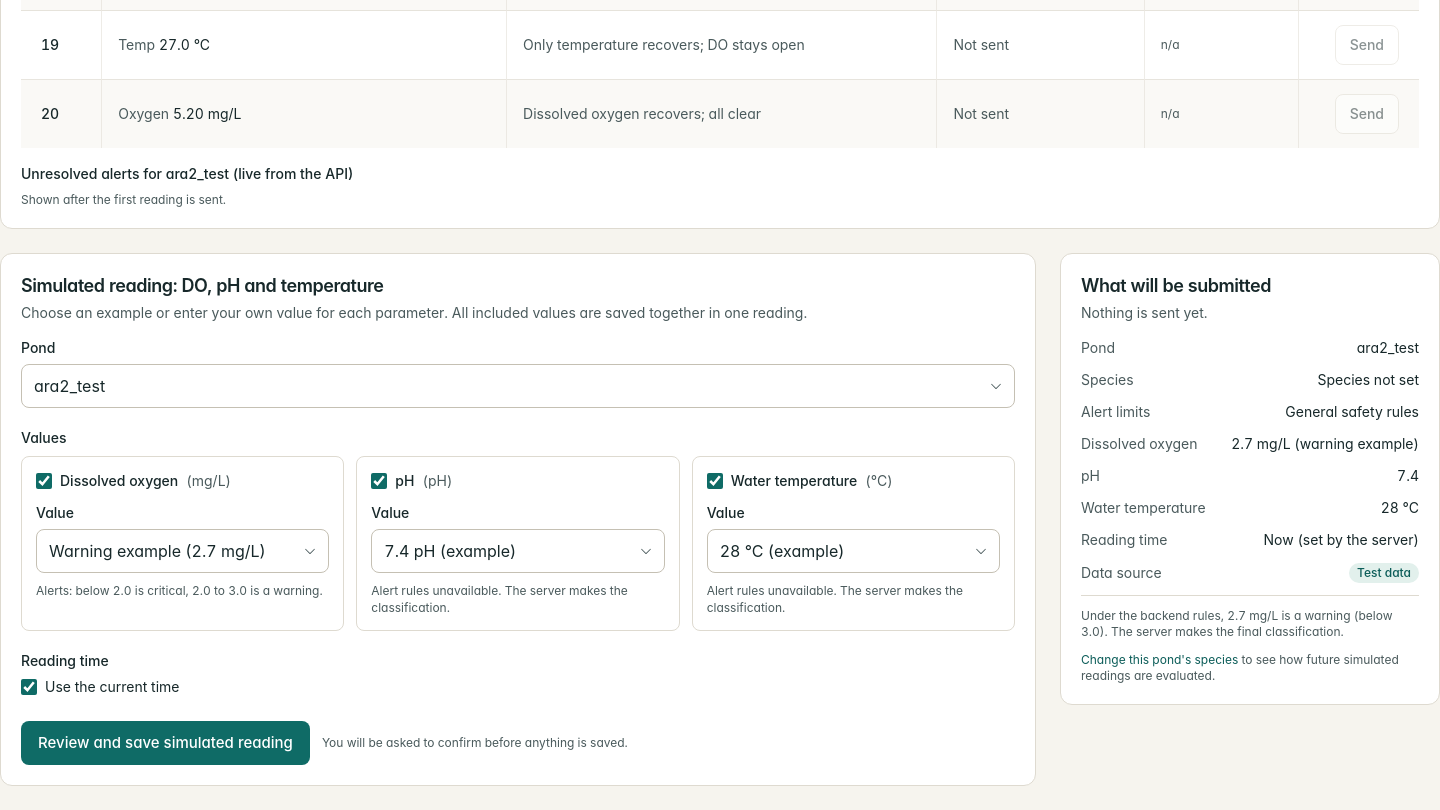
it: simulation: one reading, three parameters › parameters that are unchecked are not sent at all
The image size is (1440, 810).
(page scrolled)
Expected: the heading "Simulated reading: DO, pH and temperature" is shown, [21, 275, 384, 296]
What coordinates should you click on to do the following:
click the checkbox labelled "pH (pH)"
I would click on:
 (379, 481)
Its box is [371, 473, 387, 489].
(page scrolled)
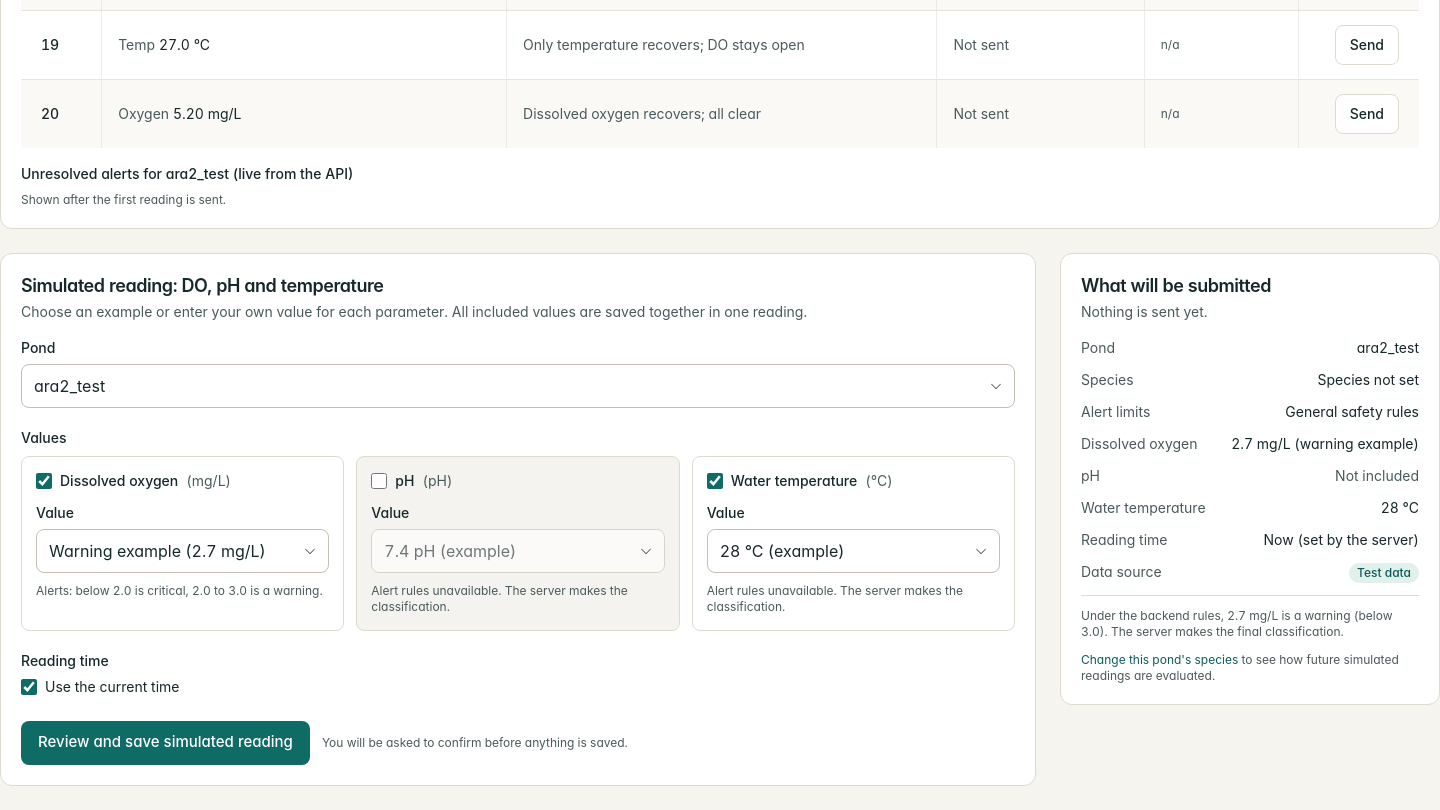
What coordinates should you click on to do the following:
click the checkbox labelled "Water temperature (°C)"
I would click on:
 (715, 480)
Its box is [707, 472, 723, 488].
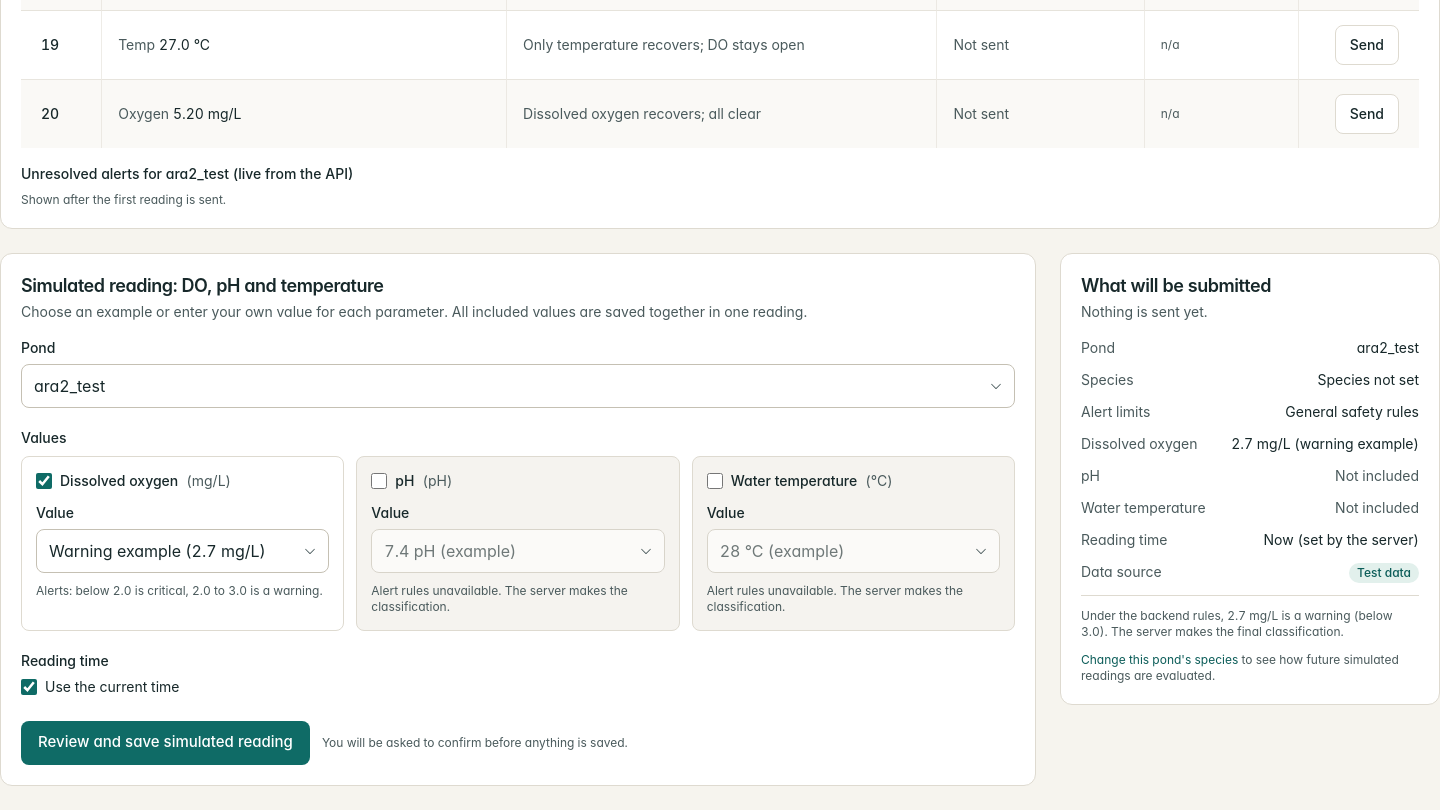
What coordinates should you click on to do the following:
click the button "Review and save simulated reading"
I would click on:
 (165, 742)
Its box is [21, 720, 310, 764].
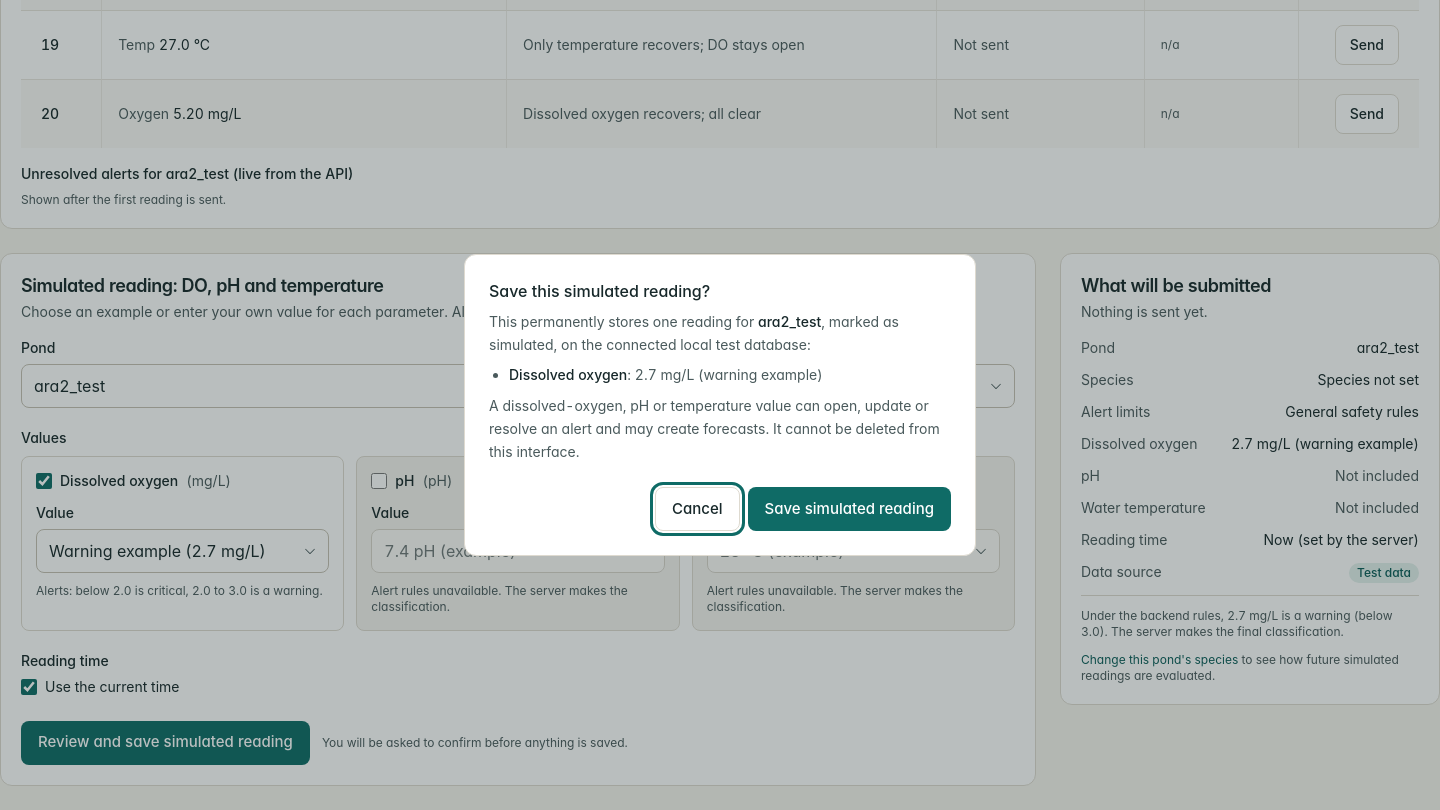
What coordinates should you click on to do the following:
click the button "Save simulated reading"
I would click on:
 (849, 509)
Its box is [748, 487, 951, 531].
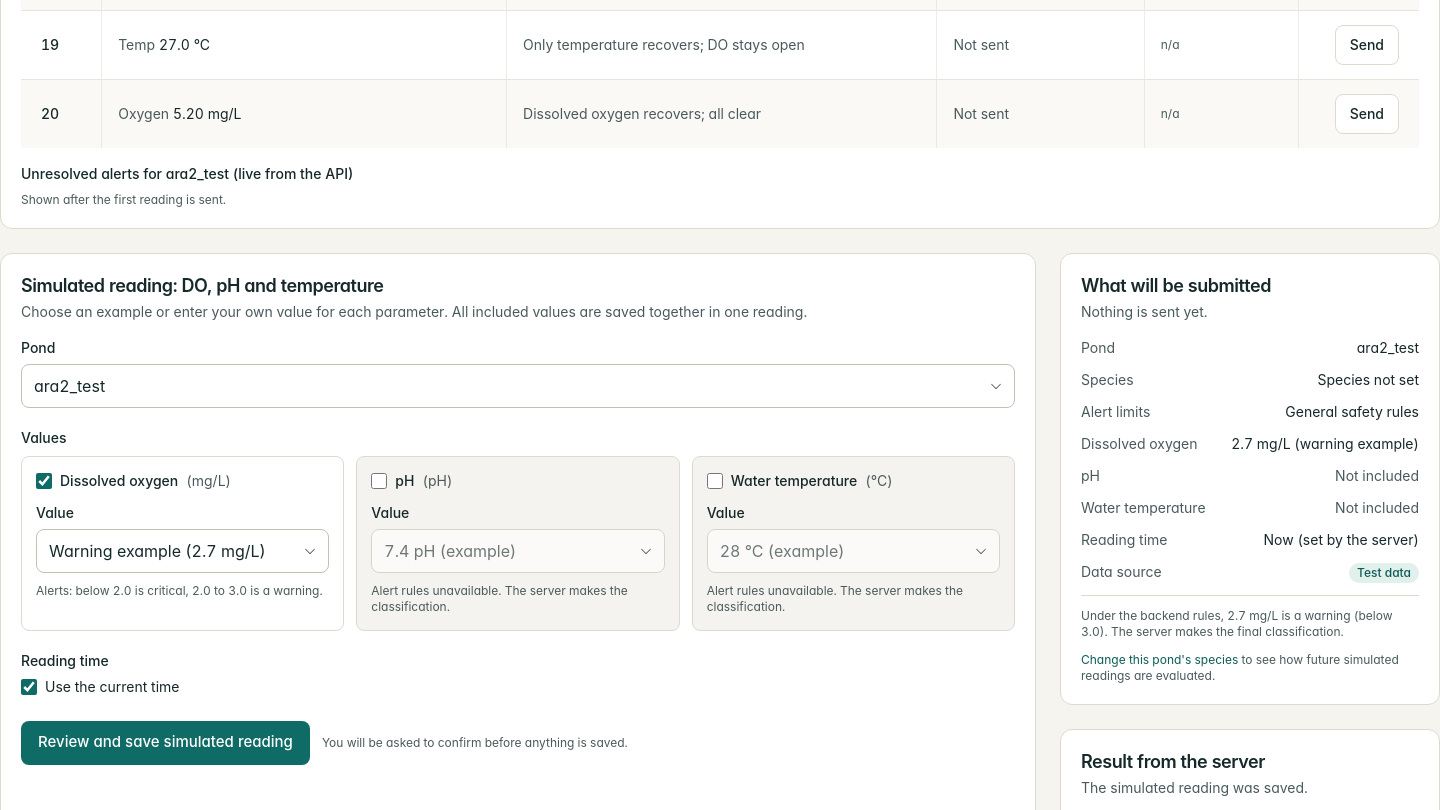
Expected: the heading "Result from the server" is shown, [1081, 750, 1265, 772]
